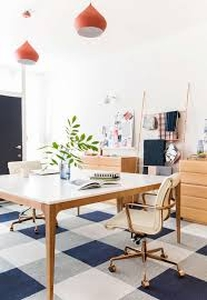chair: (107, 172, 185, 289)
